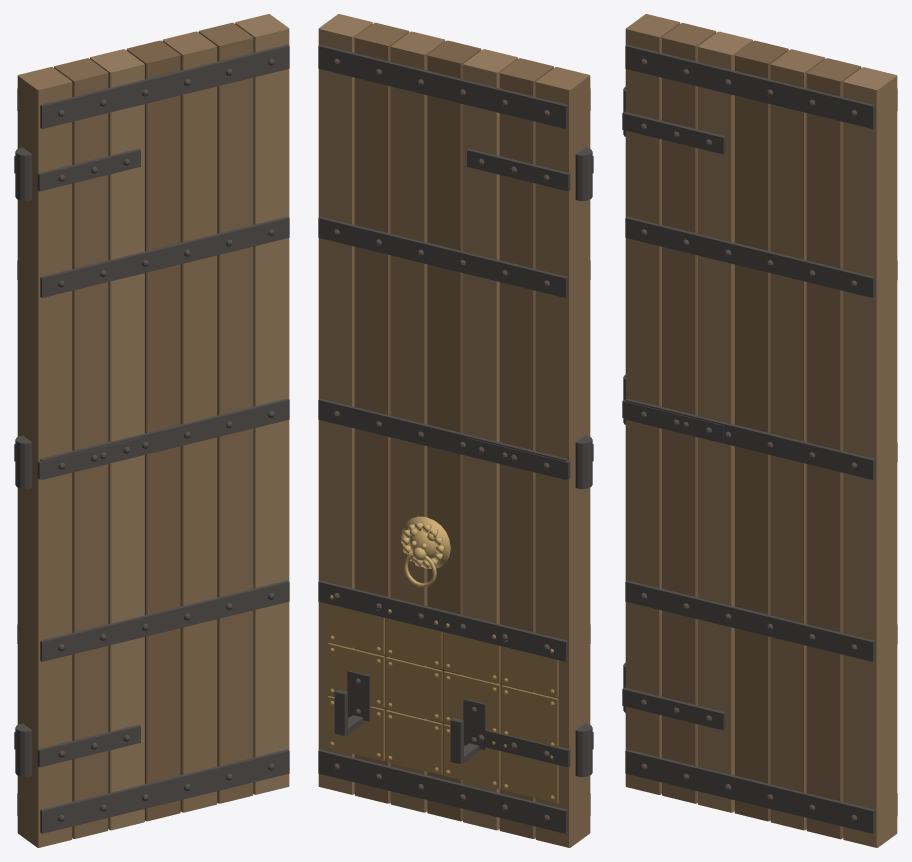
File: gate_leaf.glb
3 renders of one model, left to right at view 1: azimuth 30°, elevation 25°; view 2: azimuth 150°, elevation 25°; view 3: azimuth 330°, elevation 25°, orthographic.
Visible parts, largest first — view 1: ironwork, plank0, plank4, plank5, plank6, plank3, plank2, plank1; view 2: ironwork, plank0, sheathing, plank6, plank5, plank1, plank2, plank4, plank3, lionhead, bossplate; view 3: plank6, ironwork, plank5, plank4, plank3, plank2, plank0, plank1.
Boxes of the visible parts, left/top/right/bottom form: ironwork: left=14, top=44, right=289, bottom=833; plank0: left=17, top=67, right=72, bottom=847; plank4: left=162, top=31, right=217, bottom=812; plank5: left=198, top=22, right=253, bottom=803; plank6: left=235, top=14, right=289, bottom=794; plank3: left=126, top=40, right=180, bottom=821; plank2: left=90, top=49, right=144, bottom=830; plank1: left=54, top=58, right=108, bottom=838; ironwork: left=318, top=44, right=593, bottom=833; plank0: left=535, top=67, right=590, bottom=847; sheathing: left=328, top=595, right=558, bottom=803; plank6: left=318, top=14, right=372, bottom=794; plank5: left=354, top=22, right=409, bottom=803; plank1: left=499, top=58, right=553, bottom=838; plank2: left=463, top=49, right=517, bottom=830; plank4: left=390, top=31, right=445, bottom=812; plank3: left=427, top=40, right=481, bottom=821; lionhead: left=401, top=522, right=444, bottom=587; bossplate: left=401, top=516, right=450, bottom=568; plank6: left=843, top=67, right=897, bottom=847; ironwork: left=622, top=44, right=897, bottom=833; plank5: left=806, top=58, right=861, bottom=839; plank4: left=770, top=49, right=825, bottom=830; plank3: left=734, top=40, right=788, bottom=821; plank2: left=698, top=31, right=752, bottom=812; plank0: left=625, top=14, right=680, bottom=794; plank1: left=662, top=23, right=716, bottom=803.
Bounding box in the file's own units: 3.63 × 10 × 1.1.
